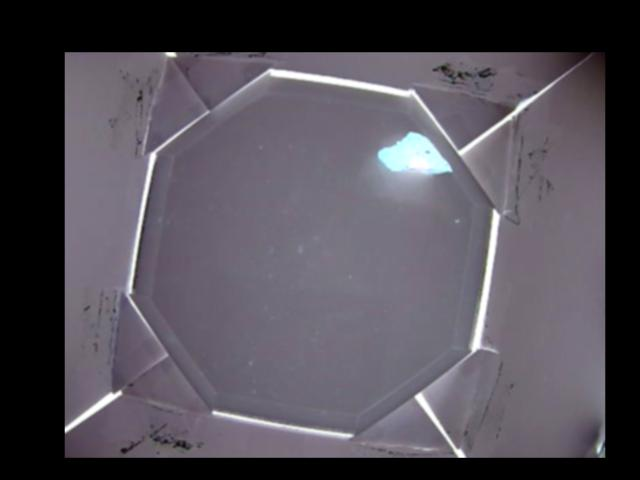Brisk: (376, 131, 454, 176)
